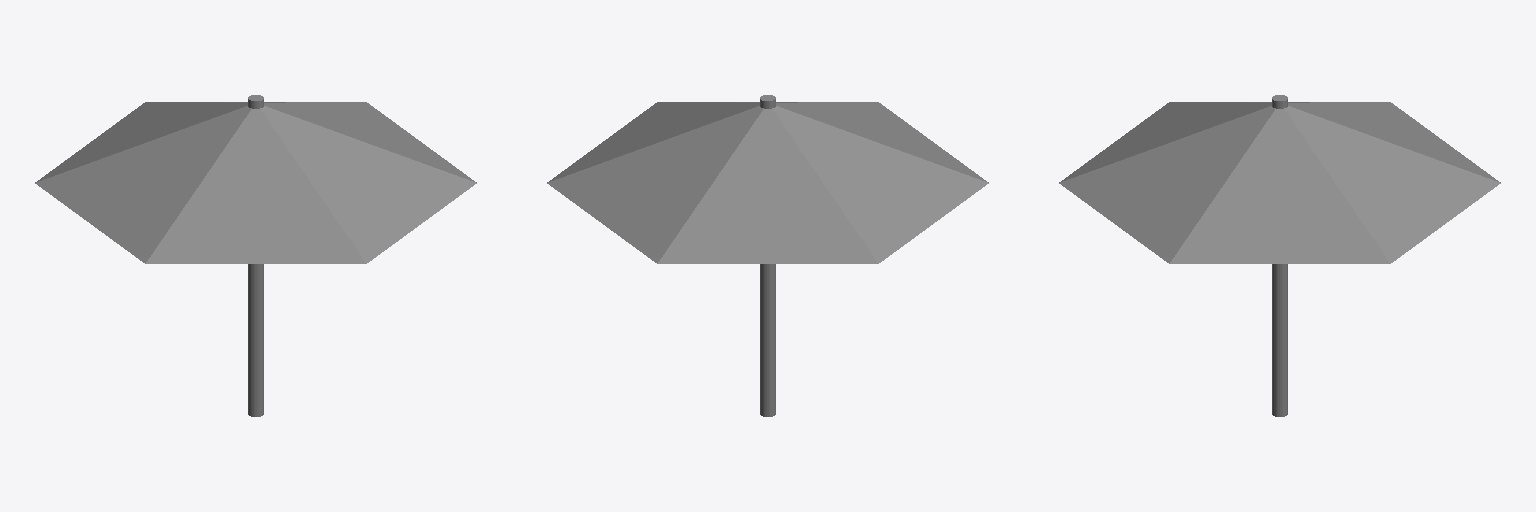
Rendered from umbrella.obj.
3 renders of one model, left to right at view 1: azimuth 30°, elevation 25°; view 2: azimuth 150°, elevation 25°; view 3: azimuth 270°, elevation 25°, orthographic.
Parts seen in each view (by area): view 1: Cylinder; view 2: Cylinder; view 3: Cylinder.
Part boxes in pixels (x1,y1,x2,y2): Cylinder: (35,95,476,416); Cylinder: (547,95,988,416); Cylinder: (1059,95,1500,416).
Size of the model in its own units: 16.35 by 14.86 by 18.87.